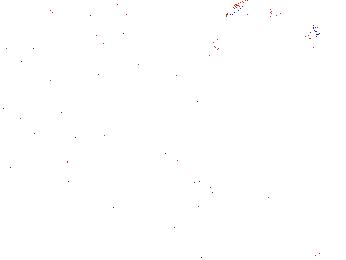moon jellyfish: (24, 19, 140, 82), (209, 1, 319, 51), (103, 17, 196, 58), (1, 24, 49, 91)
